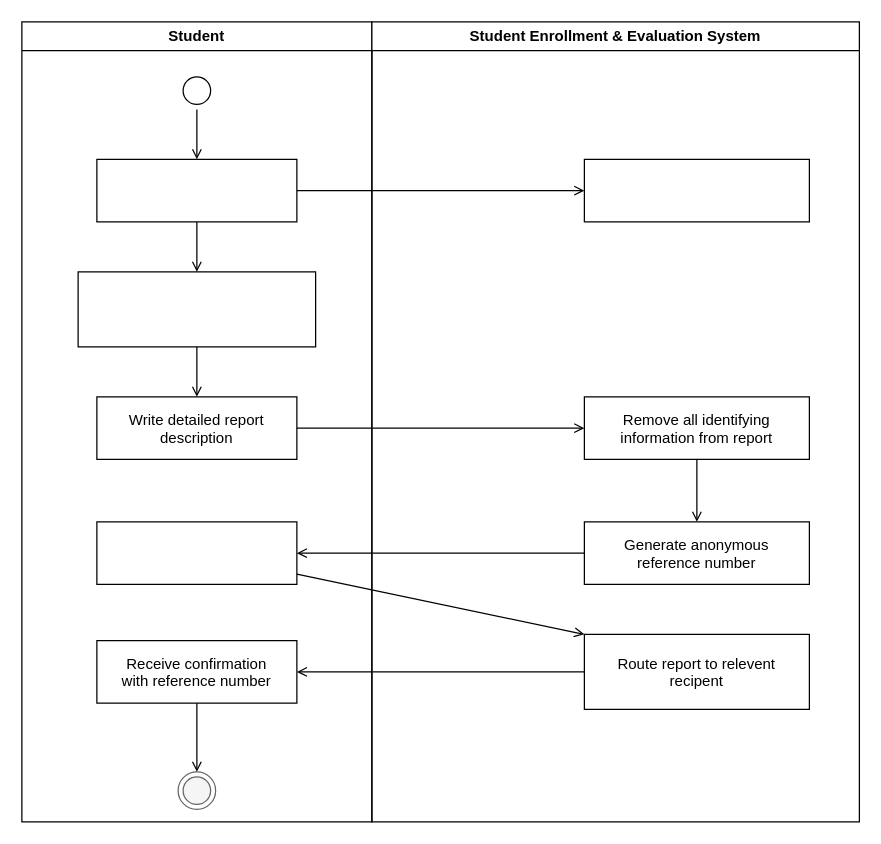
Some shapes in this 881 by 844 pixel diagram are drawn without their labels. Here are the shapes that lost their labels. From the top down, the centre of each, then its label:
pixel 196 190: Access anonymous reporting interface
pixel 696 190: Load reporting categories & anonymization notice
pixel 196 309: Select report category (academic, system, other)
pixel 196 552: Review anonymization notice & submit report
